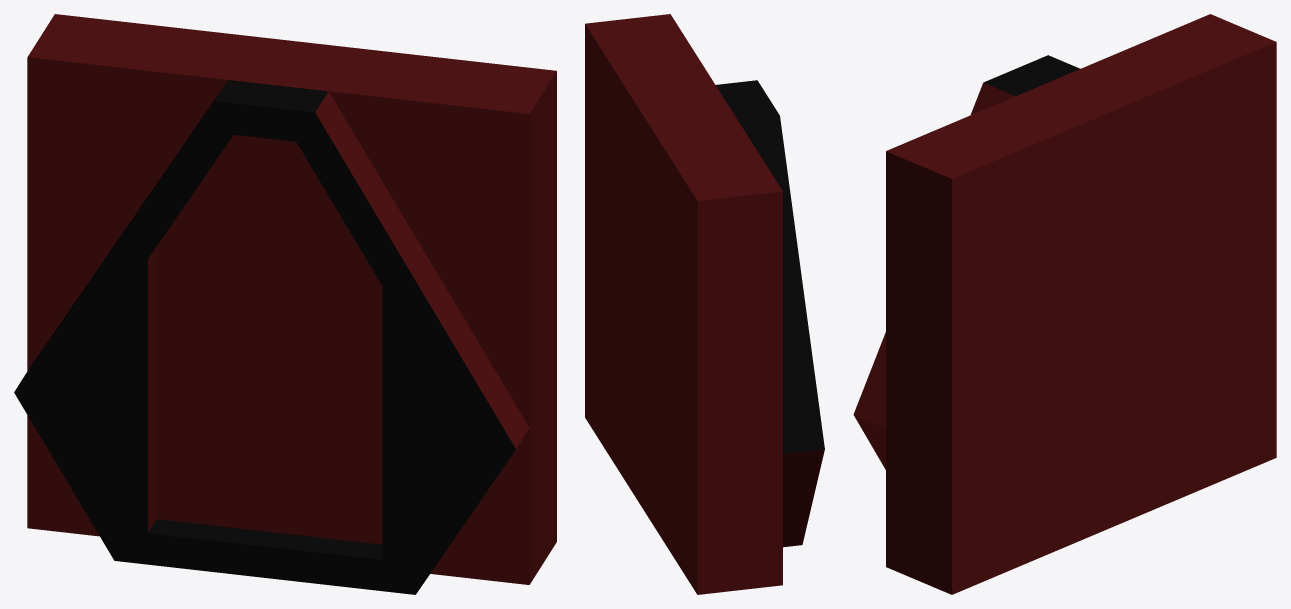
The model's file is daly12.FBX.
The picture shows the model from 3 angles, left to right: view 1: azimuth 30°, elevation 25°; view 2: azimuth 150°, elevation 25°; view 3: azimuth 270°, elevation 25°; orthographic projection. The views are drawn at different scales.
Visible parts, largest first — view 1: daly12; view 2: daly12; view 3: daly12.
Boxes of the visible parts, x1,y1,x2,y2 form: daly12: (14,14,556,594); daly12: (585,14,824,594); daly12: (853,14,1276,594).
Bounding box in the file's own units: 2765 × 3000 × 2765.
